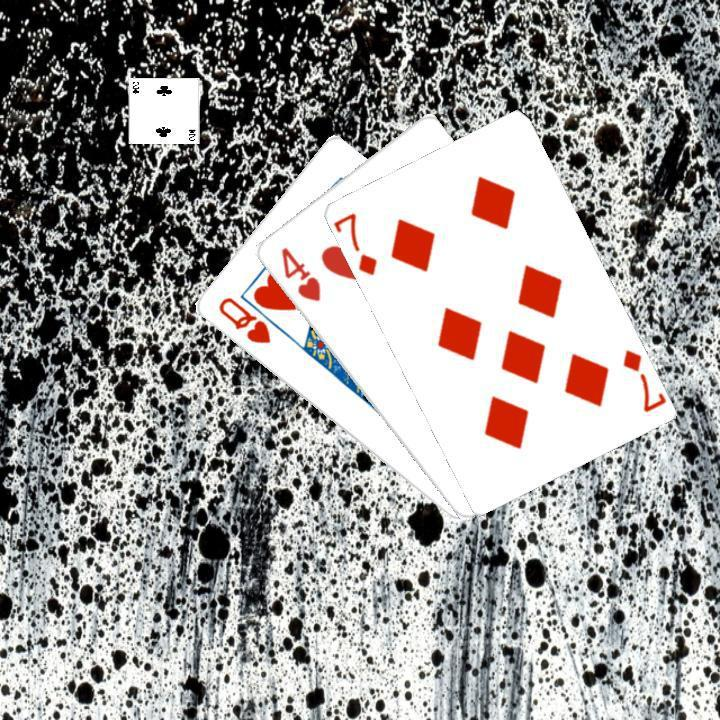4: (275, 242, 323, 304)
7: (331, 208, 379, 278), (617, 345, 665, 414)
Q: (213, 292, 272, 346)
